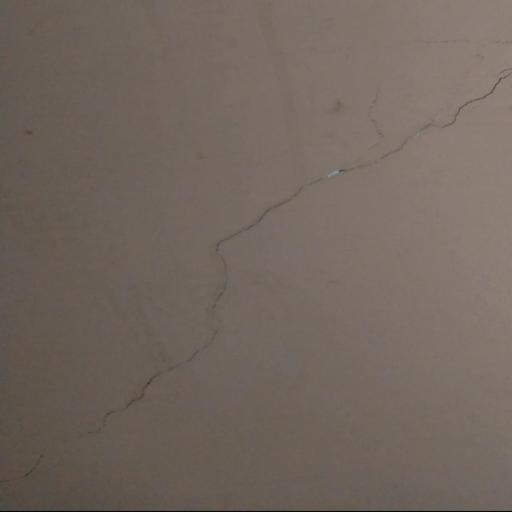minor_crack: (0, 53, 512, 492)
